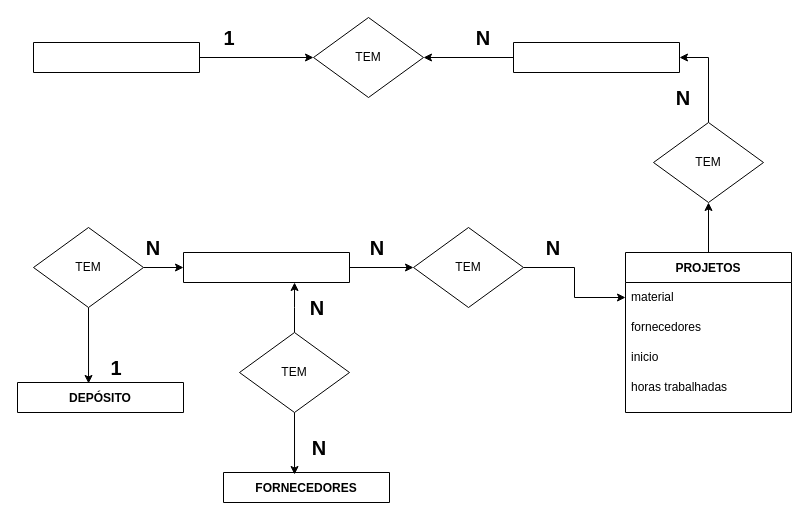
Some shapes in this 809 by 520 pixel diagram are drawn without their labels. Here are the shapes that lost their labels. From the top down, the centre of each, then its label:
At point 116,57: "DEPARTAMENTO".
At point 596,57: "FUNCIONARIO".
At point 266,267: "PEÇAS".
